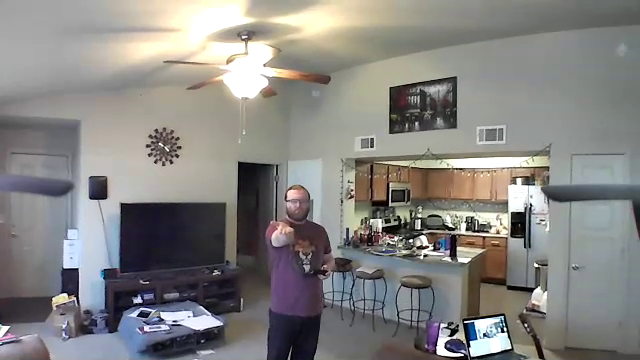land: (268, 215, 299, 238)
